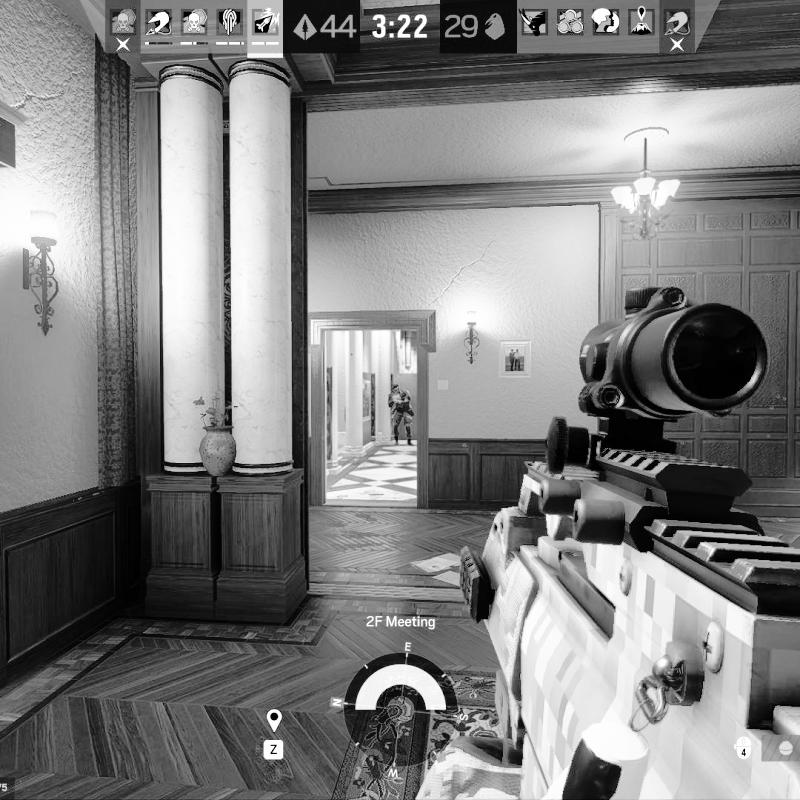Character: (387, 382, 417, 446)
Head: (391, 383, 401, 394)
